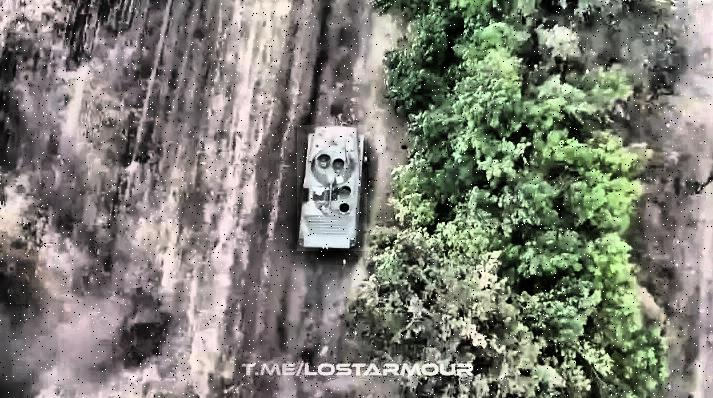military-vehicle: (297, 125, 367, 251)
